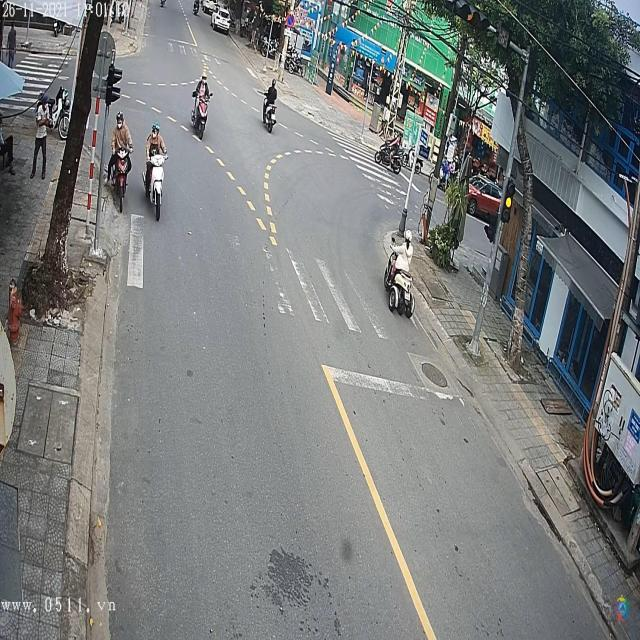car: (467, 176, 512, 232)
motorcycle: (385, 248, 417, 313), (146, 152, 168, 224), (112, 137, 132, 210), (195, 91, 209, 140), (261, 101, 277, 136)
